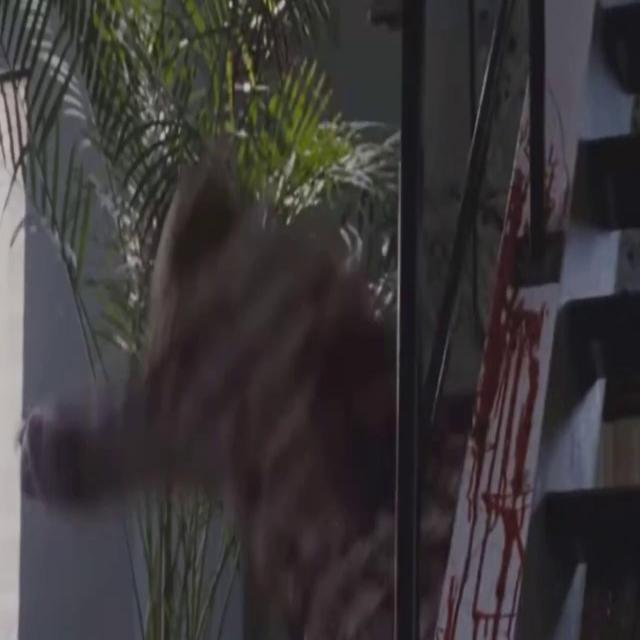flood: (480, 168, 529, 640)
